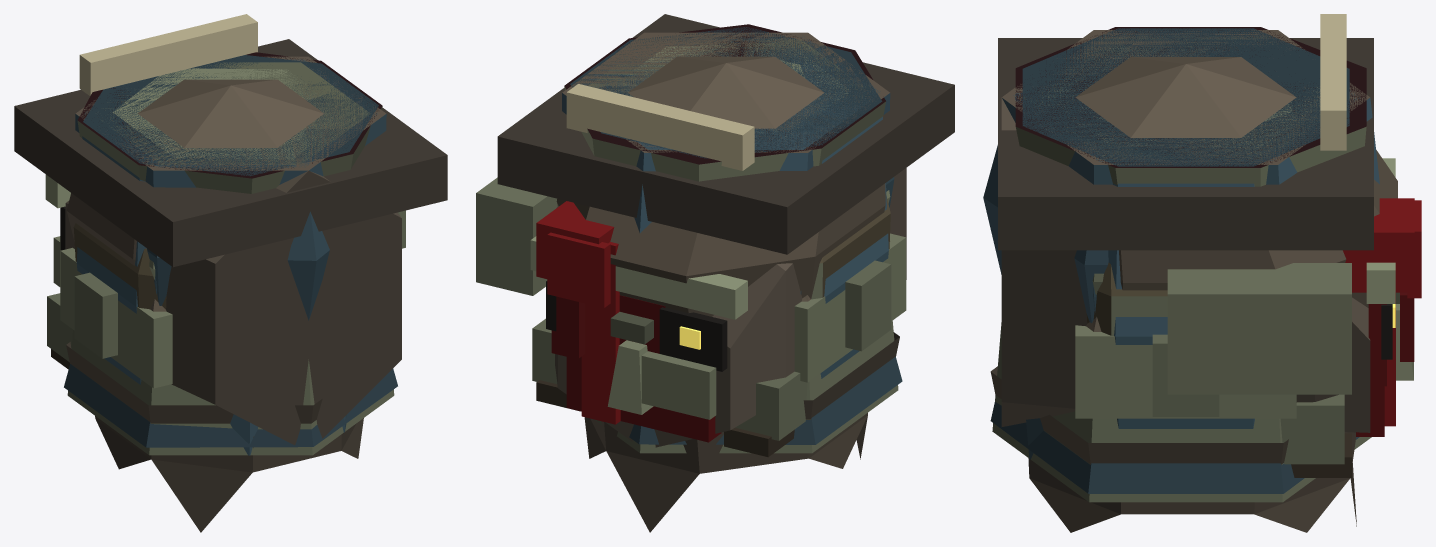
Rendered from walker.glb.
3 views of the same model, side by side, from view 1: azimuth 30°, elevation 25°; view 2: azimuth 150°, elevation 25°; view 3: azimuth 270°, elevation 25° (orthographic). The views are drawn at different scales.
Parts seen in each view (by area): view 1: hips, footR, headJaw, handR, shinR, uArmDeltR, torso, uArmR, fArmR, head, neck, thighR; view 2: hips, torso, headJaw, handR, head, footR, uArmDeltR, shinR, uArmR, fArmR, torsoBelly, neck (+1 smaller); view 3: hips, handR, footR, torso, headJaw, uArmDeltR, shinR, uArmR, head, neck, torsoBelly, thighR (+1 smaller).
Boxes of the visible parts, x1,y1,x2,y2 form: hips: (14,39,447,455); footR: (65,170,401,445); headJaw: (77,14,382,193); handR: (47,68,405,388); shinR: (64,59,397,447); uArmDeltR: (138,79,323,147); torso: (53,75,363,532); uArmR: (66,56,386,423); fArmR: (101,62,370,279); head: (45,174,166,358); neck: (67,330,394,455); thighR: (75,114,386,294); hips: (497,14,954,378); torso: (547,60,885,532); headJaw: (564,24,886,424); handR: (476,45,906,457); head: (530,197,891,414); footR: (555,168,906,447); uArmDeltR: (628,56,824,301); shinR: (583,36,902,444); uArmR: (562,32,899,419); fArmR: (566,38,890,442); torsoBelly: (536,201,653,344); neck: (594,321,898,453); hips: (998,28,1373,459); handR: (1043,48,1351,477); footR: (1001,98,1370,432); torso: (1028,102,1421,532); headJaw: (1015,14,1395,426); uArmDeltR: (1075,57,1296,331); shinR: (983,72,1359,493); uArmR: (990,30,1369,464); head: (1086,158,1413,416); neck: (992,322,1371,502); torsoBelly: (1343,198,1414,303); thighR: (1002,98,1386,386).
Size of the model in its own units: 1.15 by 1.4 by 1.19.
